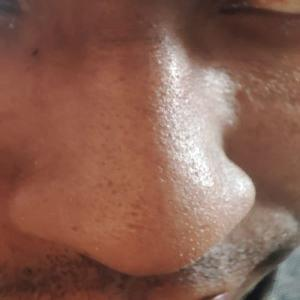Dry-Skin: (178, 18, 300, 129), (32, 0, 170, 81)
